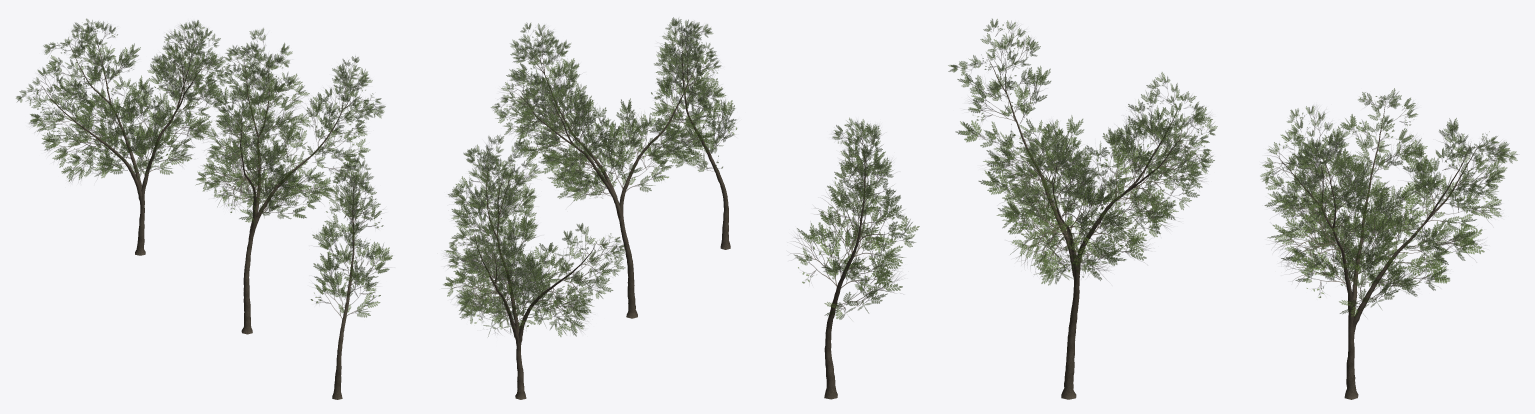
File: locust_tree_pack.glb
The picture shows the model from 3 angles, left to right: view 1: azimuth 30°, elevation 25°; view 2: azimuth 150°, elevation 25°; view 3: azimuth 270°, elevation 25°; orthographic projection. The views are drawn at different scales.
Parts seen in each view (by area): view 1: foliage_4, foliage.001_6, foliage.002_1, structure.001_7, structure_5, structure.002_0; view 2: foliage.001_6, foliage_4, foliage.002_1, structure.001_7, structure_5, structure.002_0; view 3: foliage.001_6, foliage_4, foliage.002_1, structure_5, structure.001_7, structure.002_0.
Boxes of the visible parts, <box> form: foliage_4: <box>16,18,230,181</box>; foliage.001_6: <box>196,28,385,224</box>; foliage.002_1: <box>310,155,392,319</box>; structure.001_7: <box>240,50,359,334</box>; structure_5: <box>42,29,201,255</box>; structure.002_0: <box>332,174,355,399</box>; foliage.001_6: <box>491,22,726,203</box>; foliage_4: <box>443,135,625,336</box>; foliage.002_1: <box>648,17,736,171</box>; structure.001_7: <box>520,51,700,318</box>; structure_5: <box>474,164,596,399</box>; structure.002_0: <box>681,34,730,249</box>; foliage.001_6: <box>948,19,1217,285</box>; foliage_4: <box>1260,88,1517,317</box>; foliage.002_1: <box>790,117,919,319</box>; structure_5: <box>1280,101,1481,399</box>; structure.001_7: <box>987,54,1181,399</box>; structure.002_0: <box>824,140,865,399</box>.
Bounding box in the file's own units: 89.69 × 98.59 × 183.
Materials: 2 (2 with a texture image).
